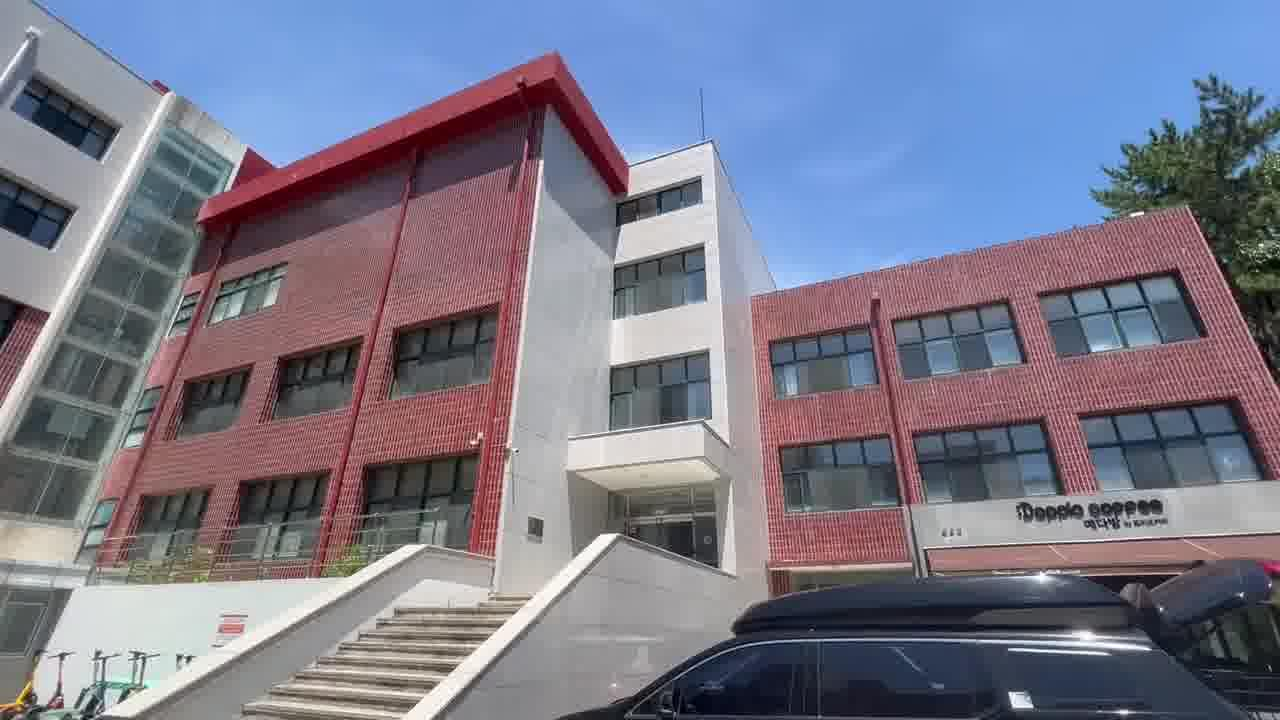building: (47, 52, 1240, 584)
